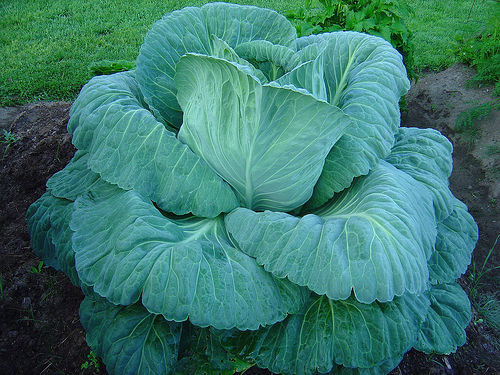cabbage: (23, 1, 479, 374)
